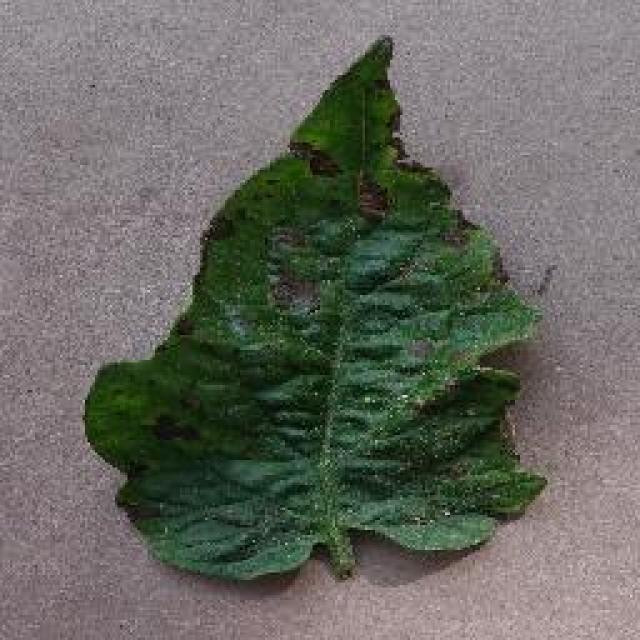Tomato___Early_blight: (76, 38, 556, 586)
